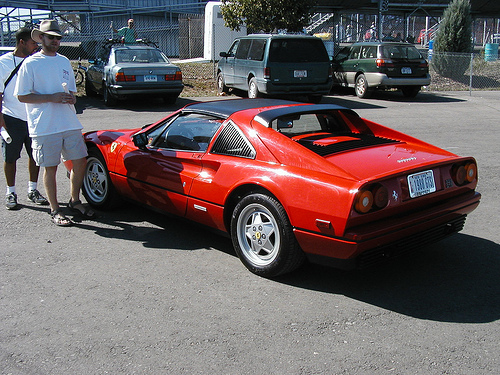without_mask: (38, 31, 63, 57), (15, 30, 39, 57), (125, 18, 136, 29)
